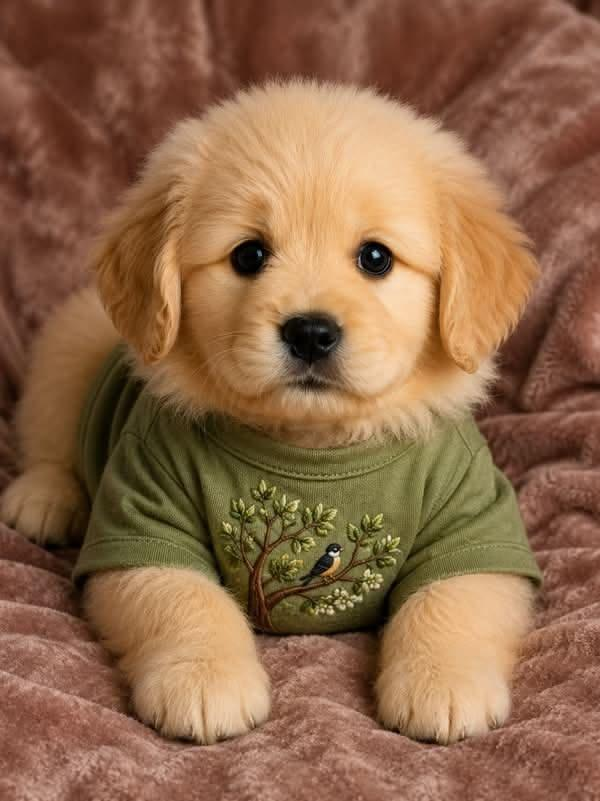puppy-dog: (0, 73, 547, 749)
